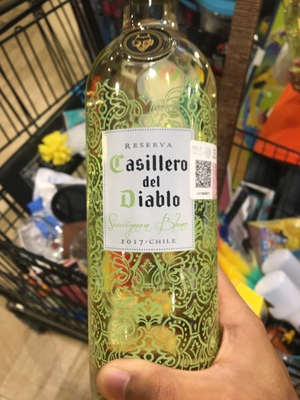casillero del diablo sauvignon blanc: (63, 5, 240, 397)
